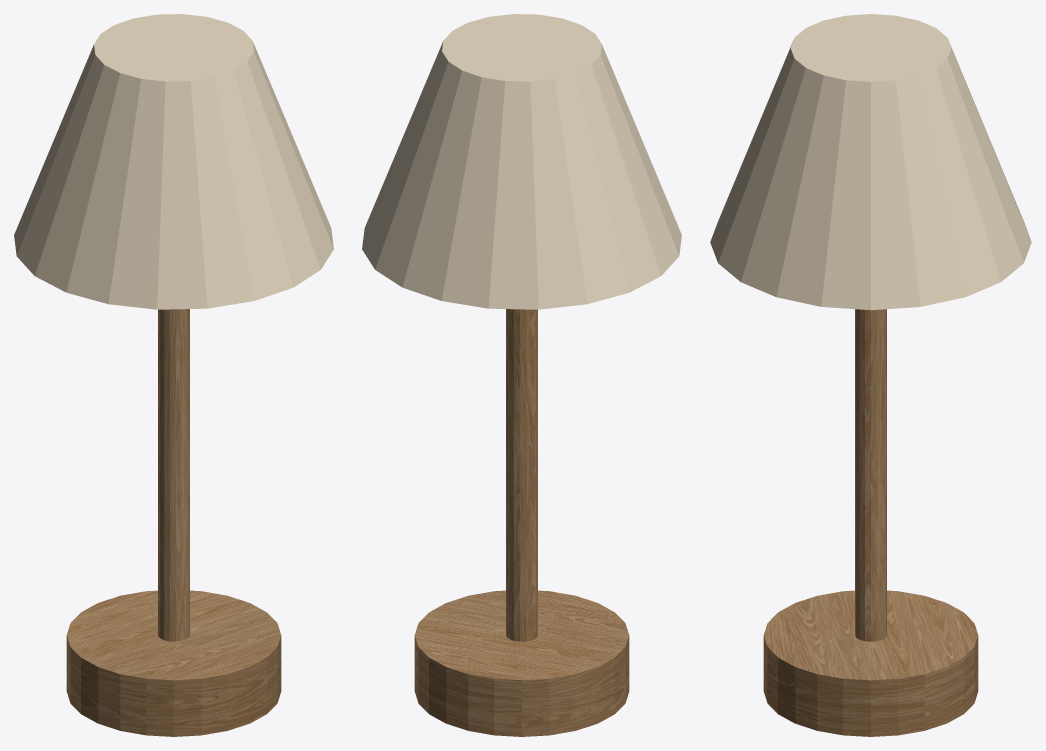
File: bedside_lamp_cream.glb
3 renders of one model, left to right at view 1: azimuth 30°, elevation 25°; view 2: azimuth 150°, elevation 25°; view 3: azimuth 270°, elevation 25°, orthographic.
Parts seen in each view (by area): view 1: fabric shade, table base, lamp stem; view 2: fabric shade, table base, lamp stem; view 3: fabric shade, table base, lamp stem.
Part boxes in pixels (left/top/right/bottom): fabric shade: left=14, top=14, right=333, bottom=309; table base: left=66, top=590, right=281, bottom=736; lamp stem: left=158, top=309, right=189, bottom=641; fabric shade: left=362, top=14, right=681, bottom=309; table base: left=414, top=590, right=629, bottom=736; lamp stem: left=506, top=309, right=537, bottom=641; fabric shade: left=710, top=14, right=1031, bottom=310; table base: left=763, top=590, right=978, bottom=736; lamp stem: left=855, top=309, right=886, bottom=641.
Size of the model in its own units: 0.36 by 0.795 by 0.36.
2 materials, 1 textured.
